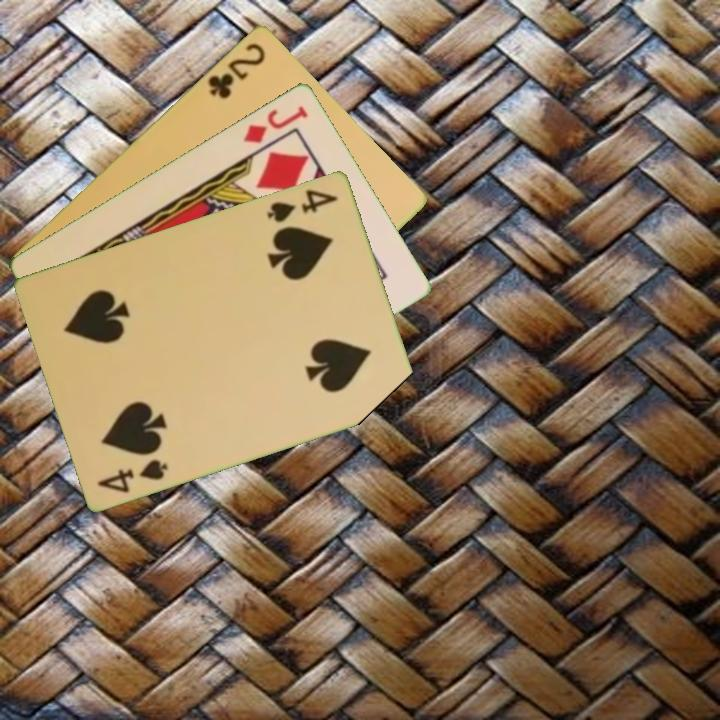2c: (204, 39, 268, 101)
4s: (94, 454, 171, 496), (264, 185, 341, 225)
Jd: (239, 102, 311, 146)
